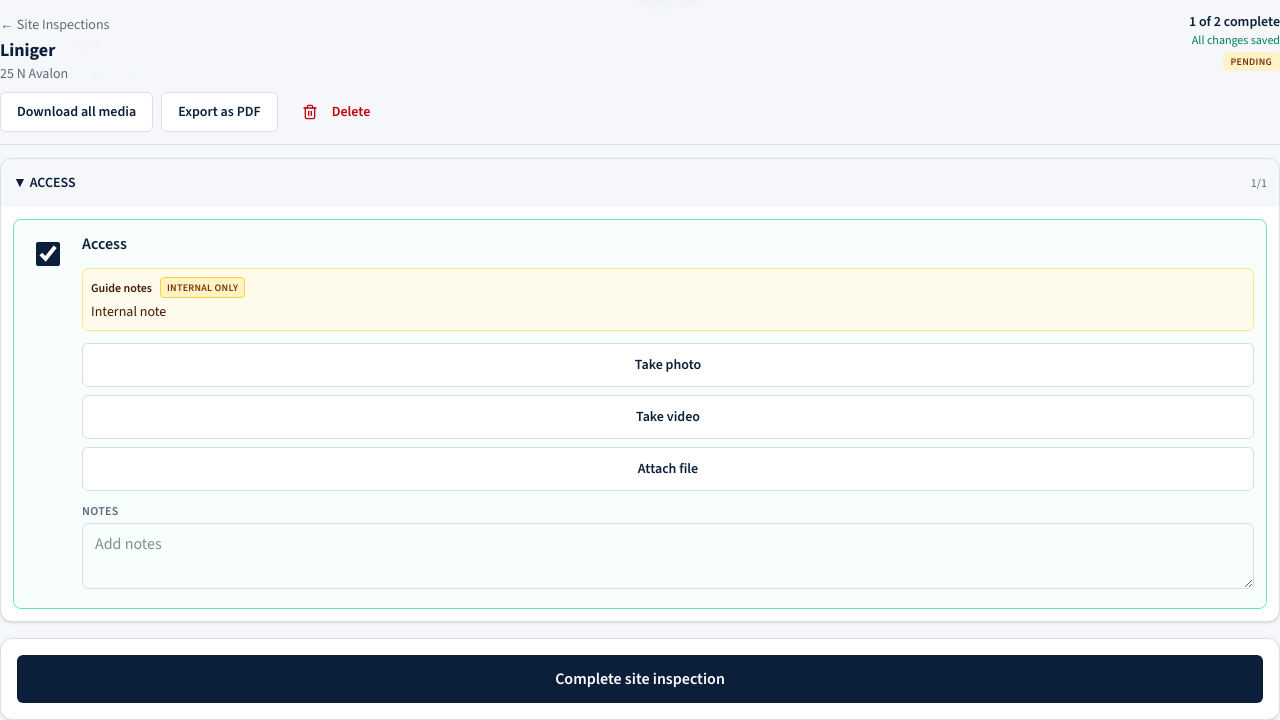
Test case: complete site inspection UI › warns with unchecked count and allows proceed
(page scrolled)
Click the button "Complete site inspection": click(640, 679) [17,655,1263,703]
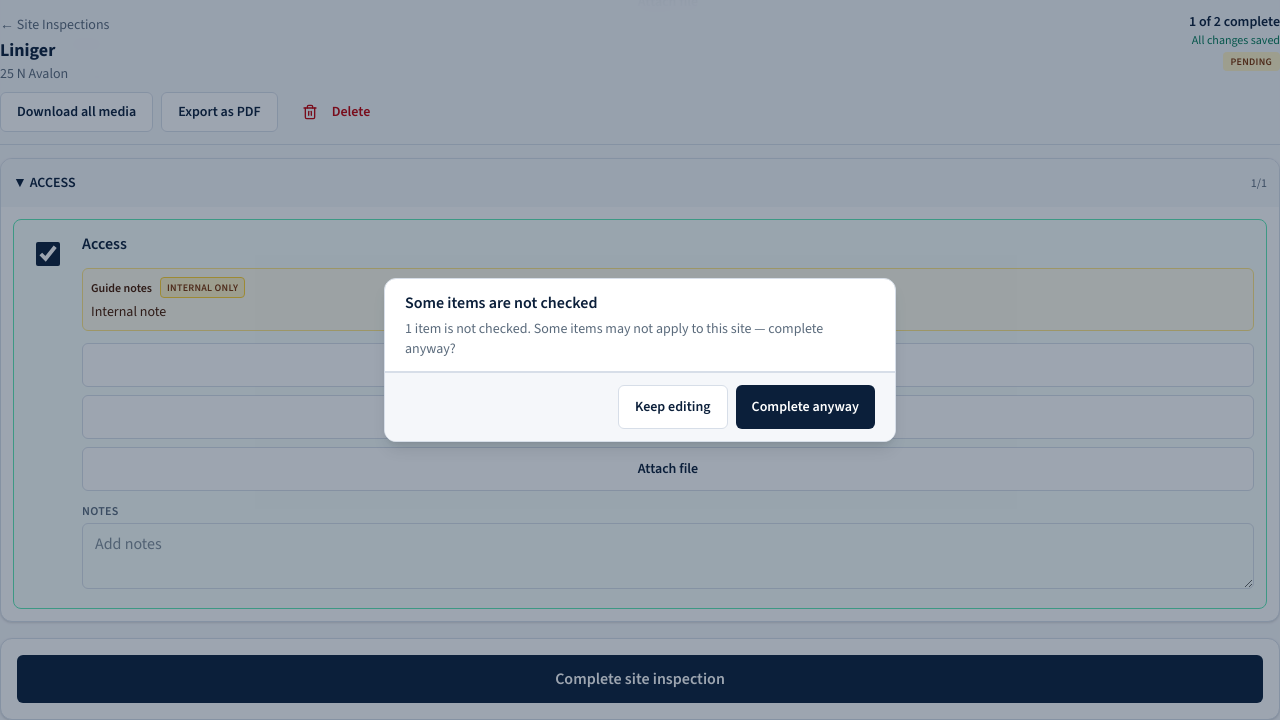
Expected: the text "1 item is not checked" is shown, [405,319,823,358]
Click the button "Complete anyway": click(805, 407) [736,385,875,429]
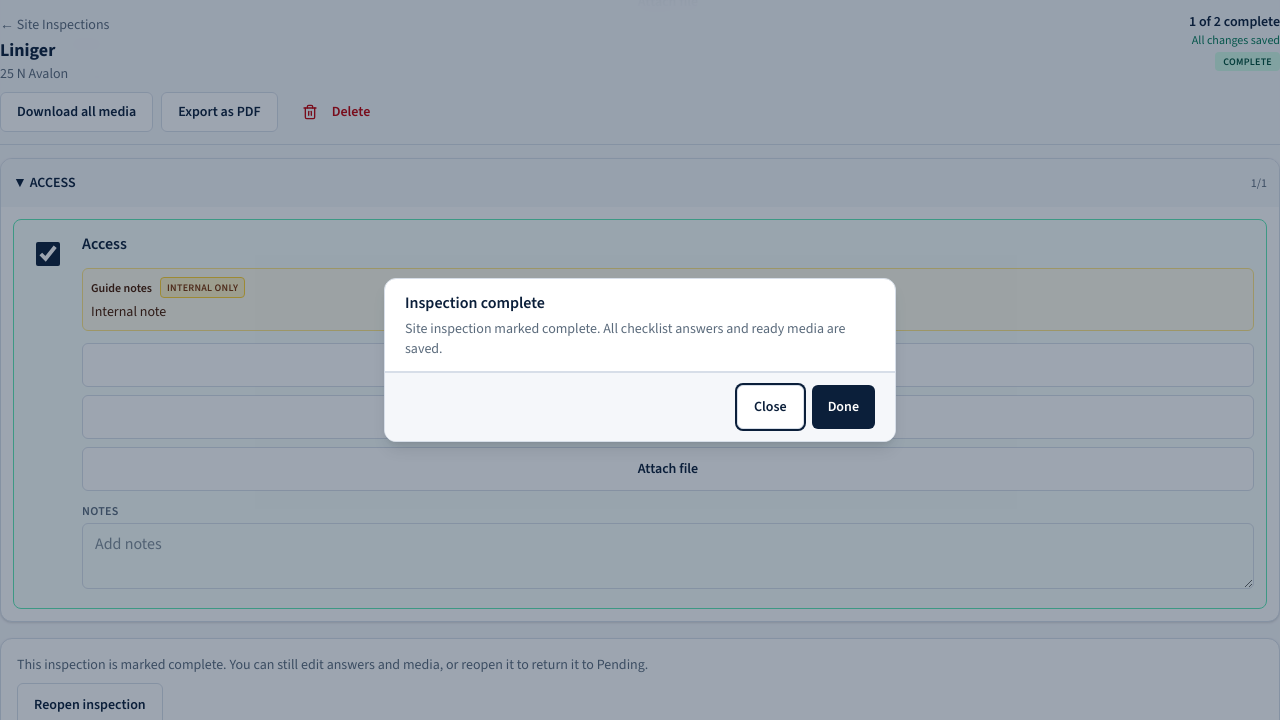
Expected: the heading "Inspection complete" is shown, [405,292,545,313]
